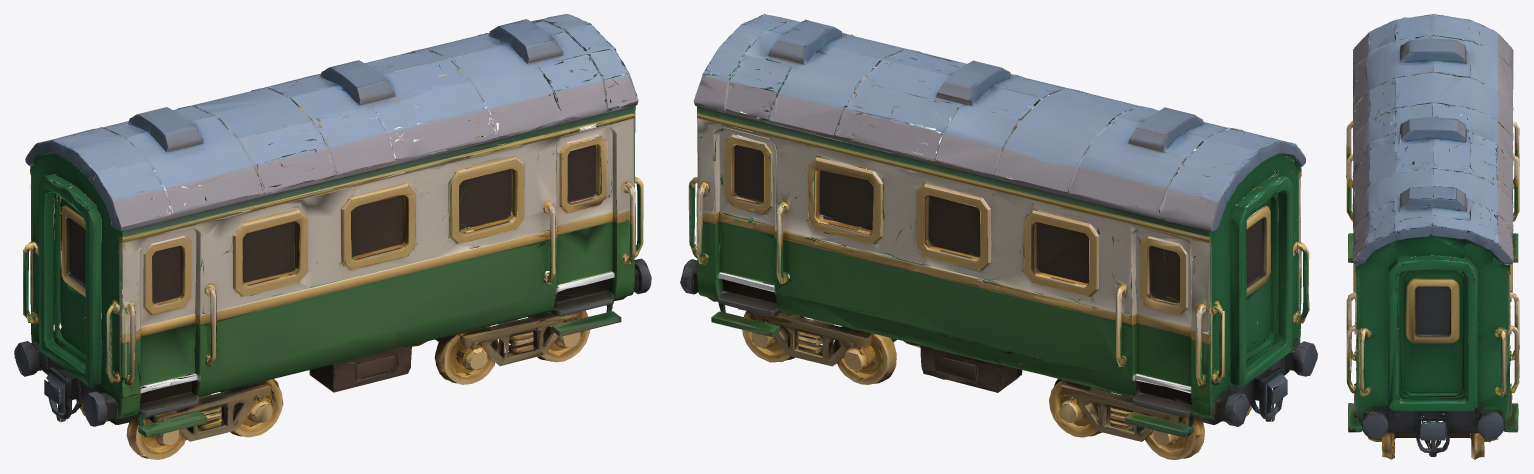
Rendered from train-car.glb.
3 renders of one model, left to right at view 1: azimuth 30°, elevation 25°; view 2: azimuth 150°, elevation 25°; view 3: azimuth 270°, elevation 25°, orthographic. The views are drawn at different scales.
Parts seen in each view (by area): view 1: node_0; view 2: node_0; view 3: node_0.
Boxes of the visible parts, bbox=[...] form: node_0: bbox=[14, 14, 651, 459]; node_0: bbox=[680, 14, 1317, 459]; node_0: bbox=[1346, 14, 1519, 459].
Bounding box in the file's own units: 1.13 × 0.6016 × 0.36.
1 material, 1 textured.
